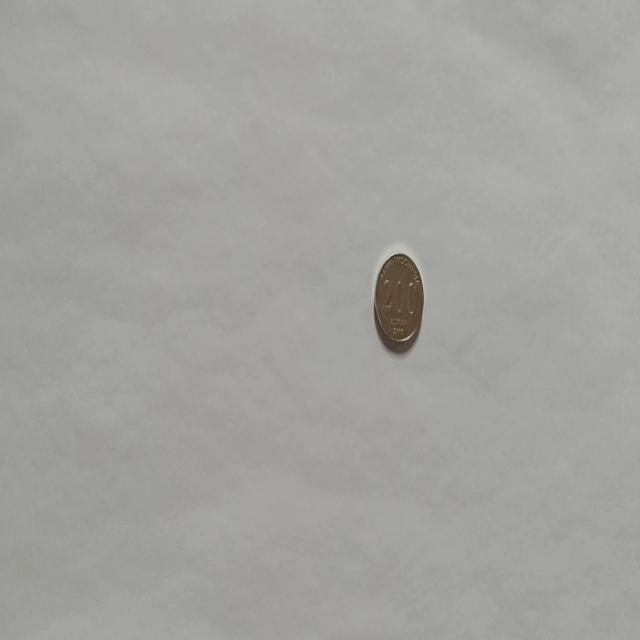dua ratus rupiah: (372, 250, 424, 345)
